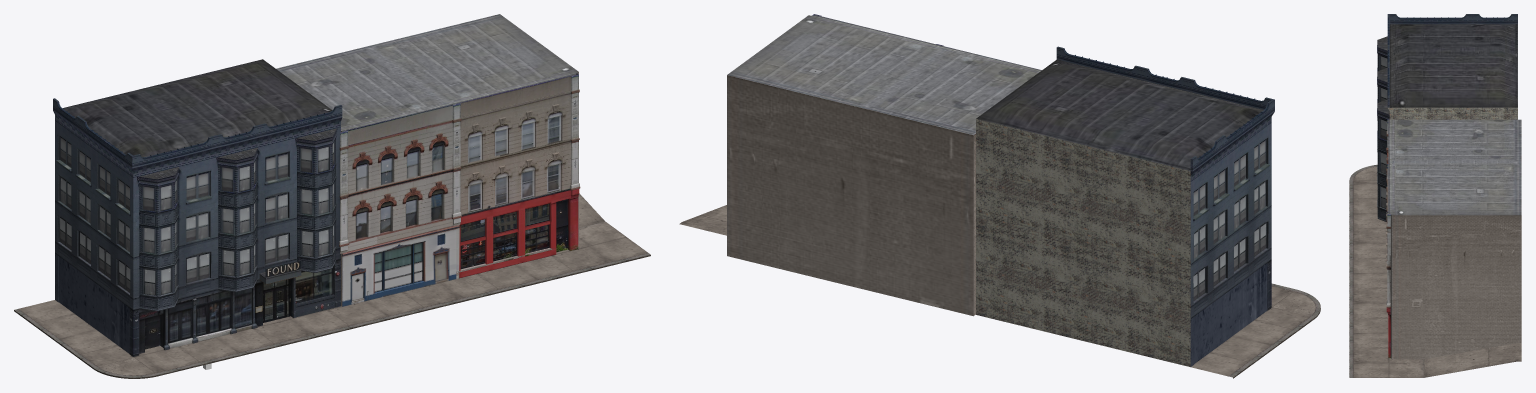
Rendered from buildings.fbx.
3 renders of one model, left to right at view 1: azimuth 30°, elevation 25°; view 2: azimuth 150°, elevation 25°; view 3: azimuth 270°, elevation 25°, orthographic. The views are drawn at different scales.
Parts seen in each view (by area): view 1: Building black_3, Building_6, Sidewalks_2; view 2: Building_6, Bricks_4, Building black_3, Sidewalks_2; view 3: Building_6, Building black_3, Sidewalks_2, Bricks_4.
Boxes of the visible parts, <box> form: Building black_3: <box>53,59,342,356</box>; Building_6: <box>276,14,580,306</box>; Sidewalks_2: <box>14,193,650,378</box>; Building_6: <box>727,14,1041,316</box>; Bricks_4: <box>976,119,1190,366</box>; Building black_3: <box>976,46,1274,366</box>; Sidewalks_2: <box>679,205,1320,378</box>; Building_6: <box>1386,119,1521,359</box>; Building black_3: <box>1377,14,1517,221</box>; Sidewalks_2: <box>1349,164,1521,377</box>; Bricks_4: <box>1388,107,1517,119</box>.
Bounding box in the file's own units: 19789 × 8406 × 6726.
